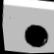correct: (21, 21, 52, 52)
